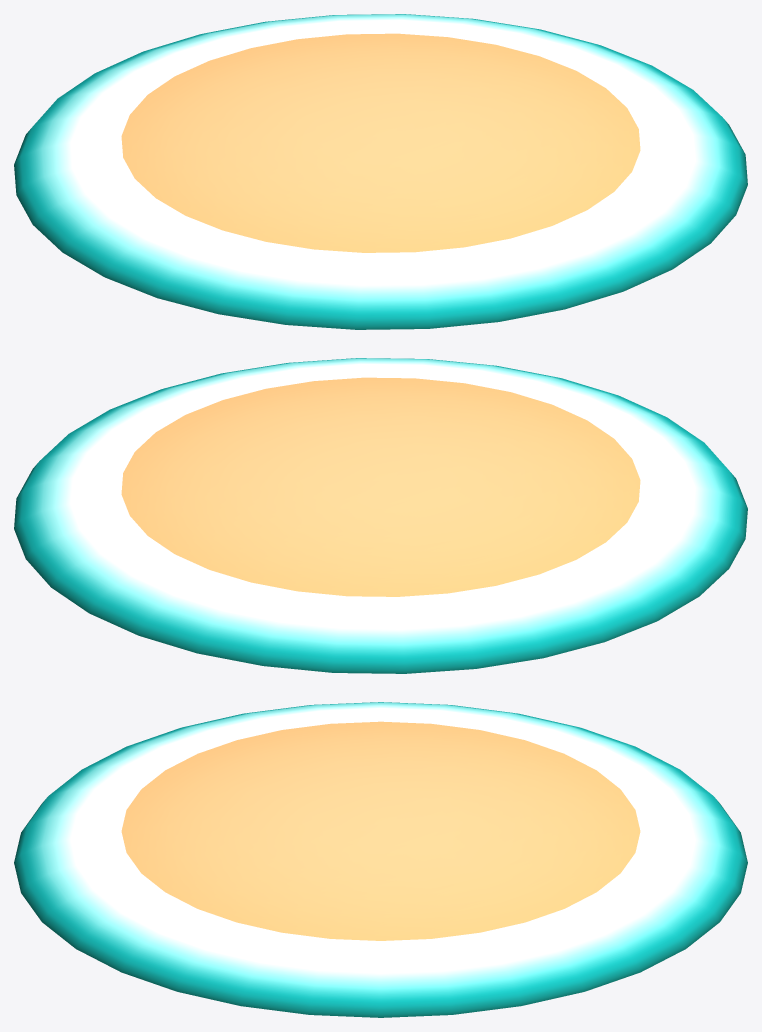
File: Beach_02.glb
3 views of the same model, one above another, from view 1: azimuth 30°, elevation 25°; view 2: azimuth 150°, elevation 25°; view 3: azimuth 270°, elevation 25° (orthographic).
Parts seen in each view (by area): view 1: Beach_02; view 2: Beach_02; view 3: Beach_02.
Boxes of the visible parts, bbox=[...] form: Beach_02: bbox=[14, 14, 747, 329]; Beach_02: bbox=[14, 358, 747, 673]; Beach_02: bbox=[14, 702, 747, 1017].
Bounding box in the file's own units: 25.71 × 1.72 × 25.71.
Materials: 1 (1 with a texture image).
